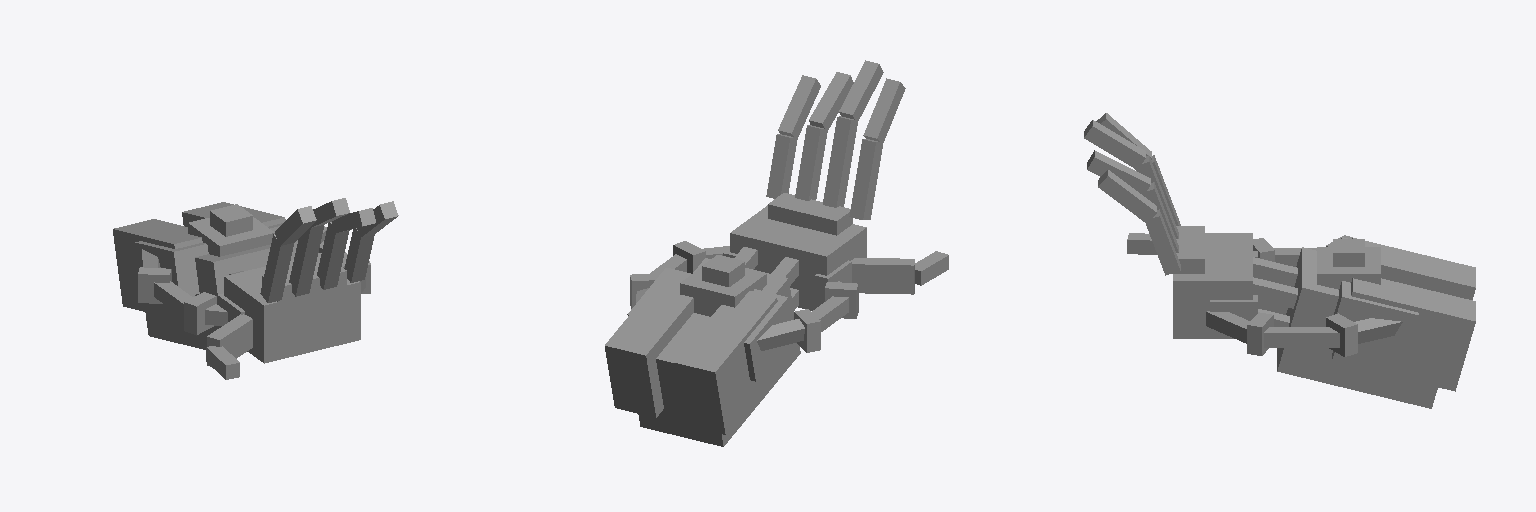
File: powerFistFiringLeft.obj
3 renders of one model, left to right at view 1: azimuth 30°, elevation 25°; view 2: azimuth 150°, elevation 25°; view 3: azimuth 270°, elevation 25°, orthographic.
Parts seen in each view (by area): view 1: palm, armorright, mainarm, supportbaseright, crystalholder, middlefinger1, index1, ringfinger1, thumb1, fingerguard, crystal, pinky1 (+9 smaller); view 2: armorright, armorleft, palm, mainarm, fingerguard, thumb1, crystalholder, middlefinger1, index1, supportbaseright, ringfinger1, index2 (+12 smaller); view 3: armorleft, mainarm, palm, armorright, supportbaseleft, crystalholder, supportleft3, middlefinger2, pinky2, fingerguard, pinky1, ringfinger2 (+10 smaller).
Part boxes in pixels (x1,y1,x2,y2): palm: (224,253,360,363); armorright: (113,219,202,321); mainarm: (145,242,296,349); supportbaseright: (135,241,208,295); crystalholder: (188,217,274,256); middlefinger1: (289,225,323,296); index1: (260,234,293,302); ringfinger1: (317,222,349,289); thumb1: (207,314,252,366); fingerguard: (262,262,346,316); crystal: (210,204,252,236); pinky1: (344,228,374,282); armorright: (674,291,786,434); armorleft: (605,270,693,417); palm: (730,205,866,310); mainarm: (638,258,800,446); fingerguard: (768,193,852,235); thumb1: (851,258,914,294); crystalholder: (680,267,766,316); middlefinger1: (823,116,857,207); index1: (849,139,883,219); supportbaseright: (744,289,791,381); ringfinger1: (795,125,827,200); index2: (863,78,905,141); armorleft: (1332,278,1475,391); mainarm: (1277,247,1437,408); palm: (1173,233,1252,338); armorright: (1352,238,1475,299); supportbaseleft: (1334,281,1418,356); crystalholder: (1317,247,1380,289); supportleft3: (1264,327,1339,347); middlefinger2: (1084,120,1145,168); pinky2: (1098,170,1156,223); fingerguard: (1173,226,1204,273); pinky1: (1146,209,1180,275); ringfinger2: (1087,150,1150,192).
Bounding box in the file's own units: 0.9539 × 1.1 × 1.53.